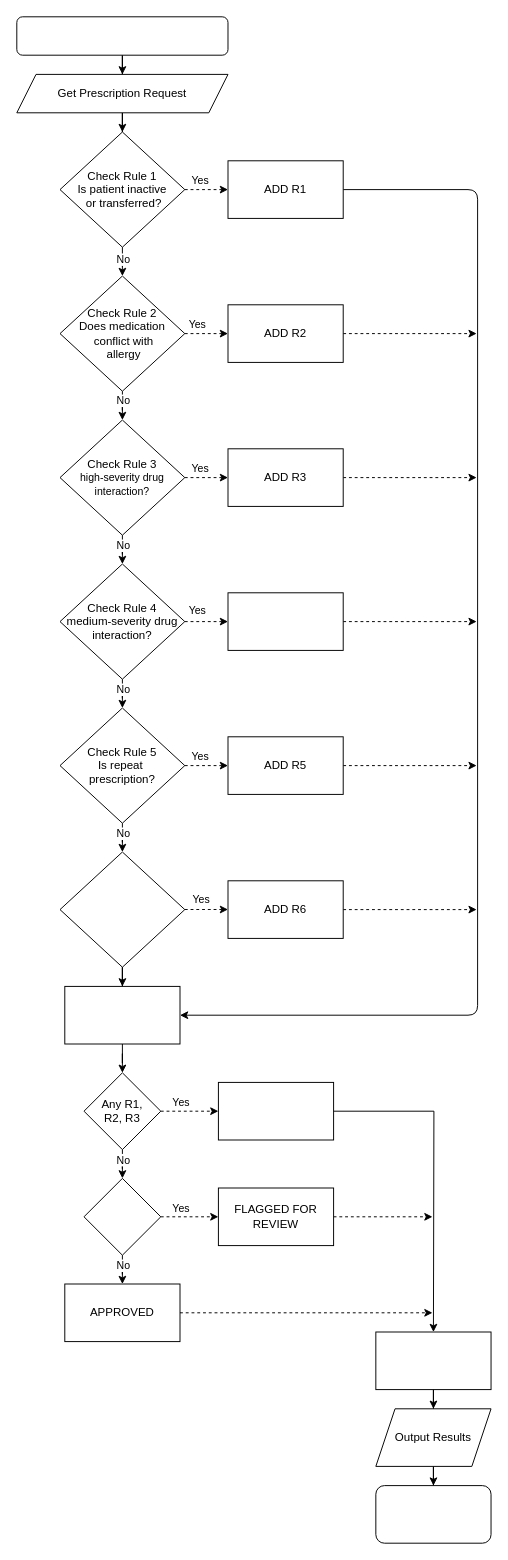
Some shapes in this 508 by 1560 pixel diagram are drawn without their labels. The box of each missing label's shape, as (x1, y1, x2, y2) in pixels:
ADD R4: (227, 592, 343, 650)
Any R4, R5, R6: (83, 1177, 161, 1255)
Build Readable Summary: (375, 1331, 491, 1390)
Check Rule 6 Is age <16 or >80: (59, 851, 185, 967)
Collect triggered rules: (64, 985, 180, 1044)
END: (375, 1485, 491, 1543)
REJECTED: (217, 1081, 334, 1140)
START: (16, 16, 228, 55)
